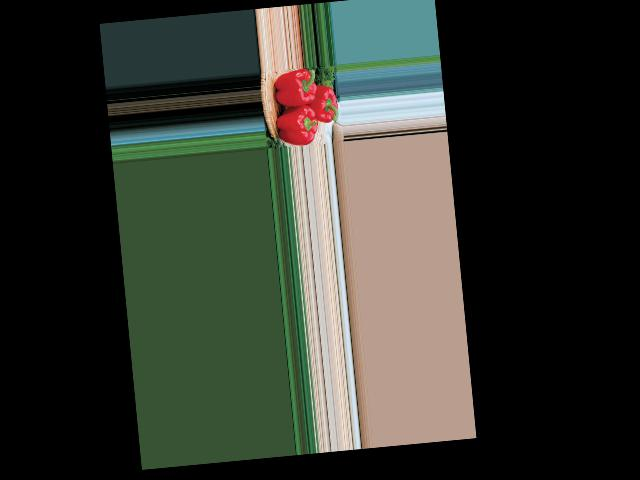bell_pepper: (267, 68, 319, 113)
